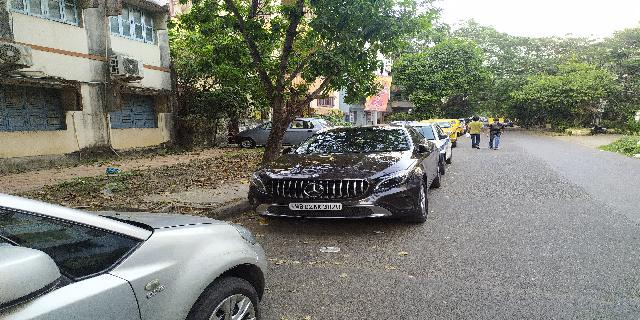Car: (1, 186, 269, 320), (247, 122, 445, 229), (233, 115, 319, 145)
